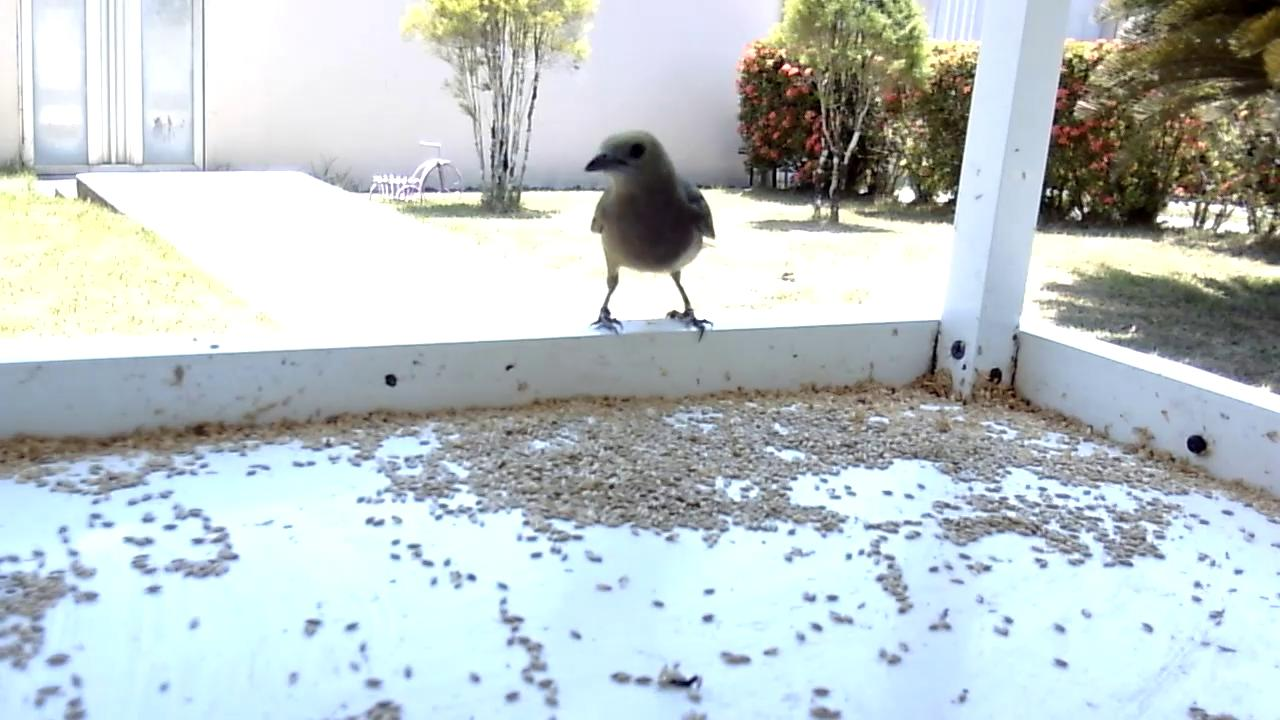sanhaco_do_coqueiro: (580, 127, 718, 348)
